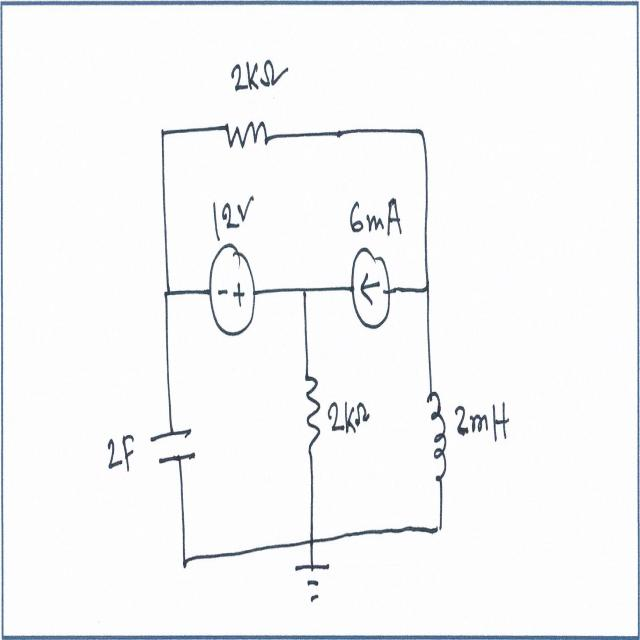capacitor: (148, 419, 199, 471)
current_source: (346, 240, 397, 334)
ground: (294, 554, 332, 609)
inductor: (424, 386, 455, 490)
resistor: (224, 96, 273, 158), (299, 368, 323, 460)
voltage_source: (209, 242, 258, 338)
